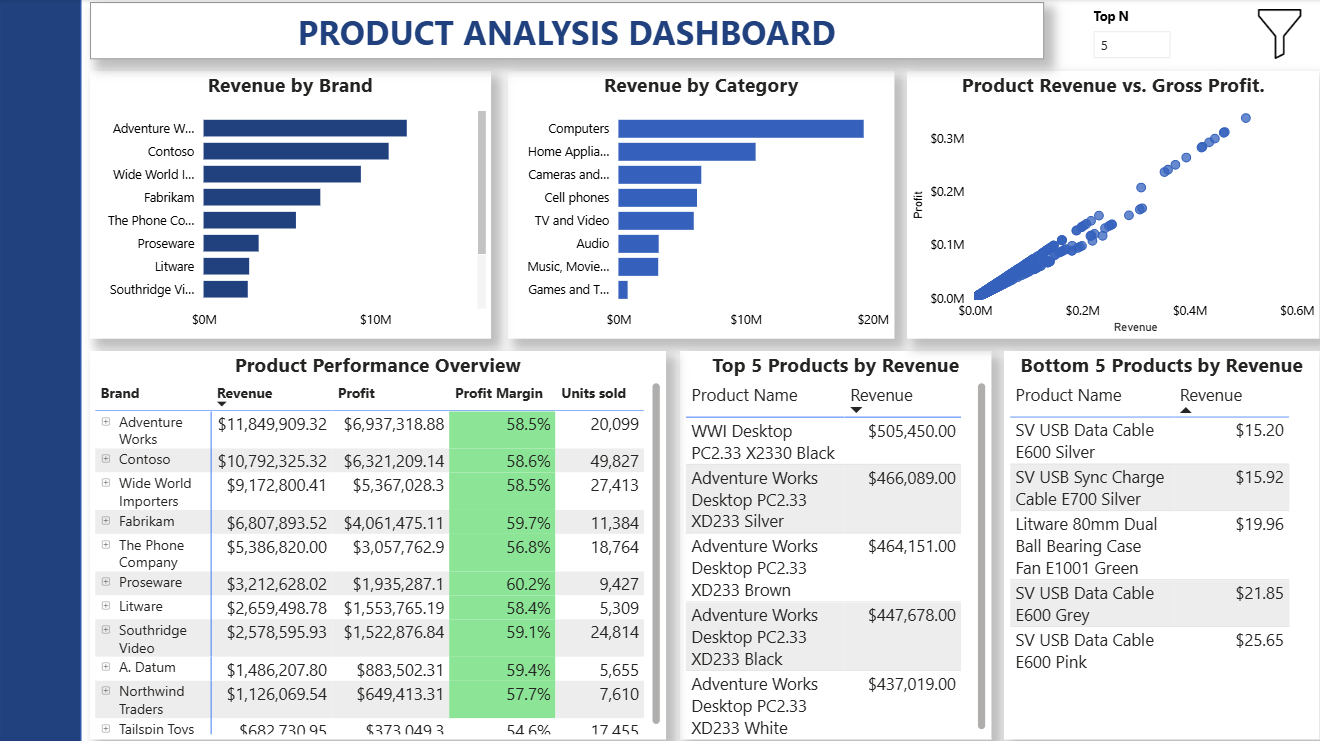

Layout of this report page (visuals, bound fields, positions):
{"tool":"powerbi","page":{"name":"Product Analysis","canvas":[1280,720],"ordinal":11},"visuals":[{"type":"shape","box":[119.9,9.6,300.1,47.9],"z":1000},{"type":"barChart","fields":{"Category":["Products.Category"],"Y":["Sales.Revenue"]},"box":[489,69,371,257],"z":2000},{"type":"tableEx","fields":{"Values":["Products.Product Name","Sales.Total Revenue"]},"box":[654,338,299,373],"z":3000},{"type":"clusteredBarChart","fields":{"Category":["Products.Brand"],"Y":["Sales.Total Revenue"]},"box":[87,69,385,257],"z":4000},{"type":"scatterChart","title":"Product Revenue vs. Gross Profit.","fields":{"Category":["Products.Product Name"],"X":["Sales.Total Revenue"],"Y":["Sales.Profit"]},"box":[872,69,396,257],"z":5000},{"type":"slicer","fields":{"Values":["Top N parameter.Top N parameter"]},"box":[1037.4,2.9,180,60],"z":6000},{"type":"tableEx","fields":{"Values":["Products.Product Name","Sales.Total Revenue"]},"box":[965,338,303,373],"z":7000},{"type":"pivotTable","title":"Product Performance Overview","fields":{"Rows":["Products.Brand","Products.Product Name"],"Values":["Sales.Total Revenue","Sales.Profit","Sales.Profit Margin","Sales.Total Units sold"]},"box":[87,338,553,373],"z":8000},{"type":"textbox","box":[87.4,2.9,915.5,55],"z":9000},{"type":"image","box":[1190,10,78,48],"z":15000},{"type":"shape","box":[0,0,79,720],"z":16000}]}

Visuals, with their boxes in screenshot pixels (x1, y1, x2, y2), scaled from the page's 1280x720 canvas onto the 1320x741 screenshot:
shape: {"left": 124, "top": 10, "right": 433, "bottom": 59}
barChart - Products.Category x Sales.Revenue: {"left": 504, "top": 71, "right": 887, "bottom": 336}
tableEx - Products.Product Name x Sales.Total Revenue: {"left": 674, "top": 348, "right": 983, "bottom": 732}
clusteredBarChart - Products.Brand x Sales.Total Revenue: {"left": 90, "top": 71, "right": 487, "bottom": 336}
"Product Revenue vs. Gross Profit." scatterChart: {"left": 899, "top": 71, "right": 1308, "bottom": 336}
slicer - Top N parameter.Top N parameter: {"left": 1070, "top": 3, "right": 1255, "bottom": 65}
tableEx - Products.Product Name x Sales.Total Revenue: {"left": 995, "top": 348, "right": 1308, "bottom": 732}
"Product Performance Overview" pivotTable: {"left": 90, "top": 348, "right": 660, "bottom": 732}
textbox: {"left": 90, "top": 3, "right": 1034, "bottom": 60}
image: {"left": 1227, "top": 10, "right": 1308, "bottom": 60}
shape: {"left": 0, "top": 0, "right": 81, "bottom": 740}
